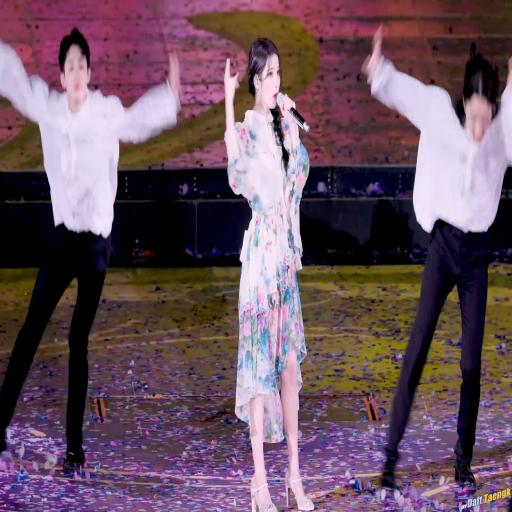IU: (248, 37, 282, 112)
